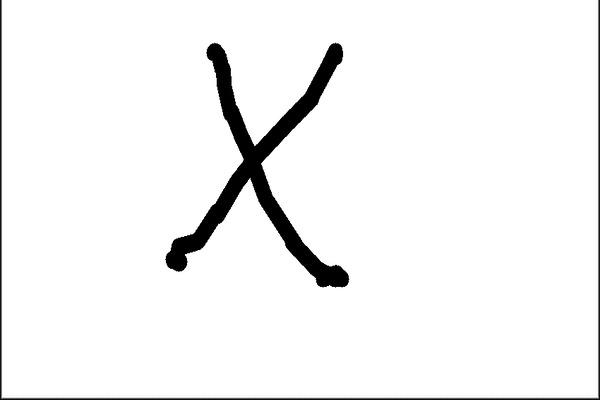X: (146, 26, 404, 304)
